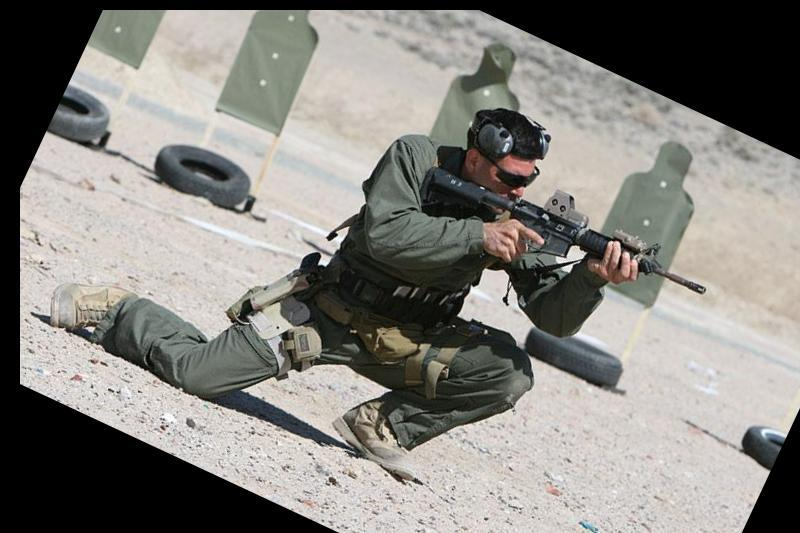larga: (420, 168, 709, 296)
